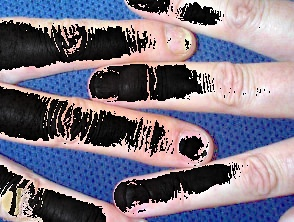Nail_psoriasis: (163, 22, 196, 59), (89, 70, 112, 100), (122, 181, 140, 214)
